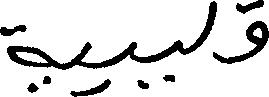X: (0, 20, 49, 96), (247, 0, 268, 63), (198, 0, 217, 64), (77, 37, 89, 96), (173, 35, 181, 86), (126, 37, 136, 65)
